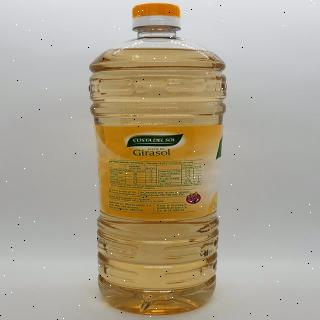Plastic-bottle: (81, 1, 231, 320)
